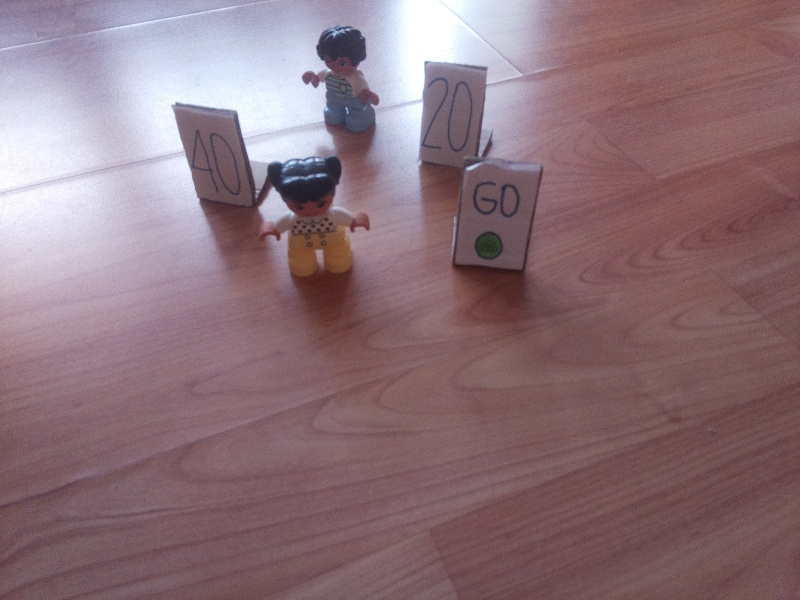20: (421, 72, 476, 155)
40: (185, 120, 243, 200)
go: (466, 180, 525, 265)
person: (259, 153, 369, 285), (301, 23, 386, 137)
